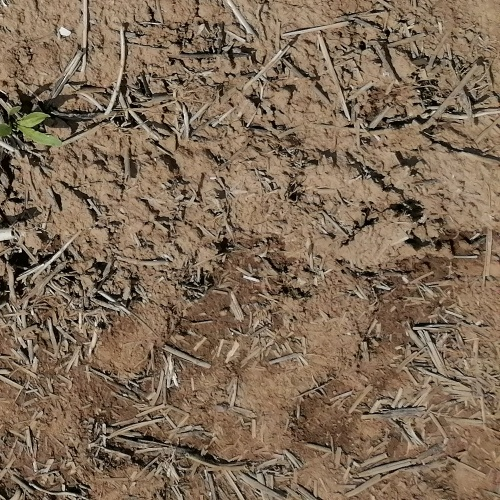beet: (0, 108, 62, 146)
